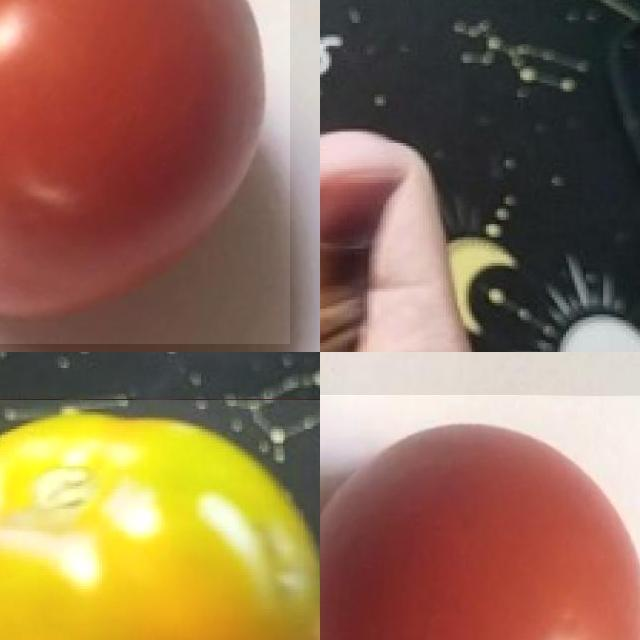Fresh Tomato: (0, 0, 289, 344), (320, 394, 640, 640)
Rotten Tomato: (0, 399, 320, 640)
